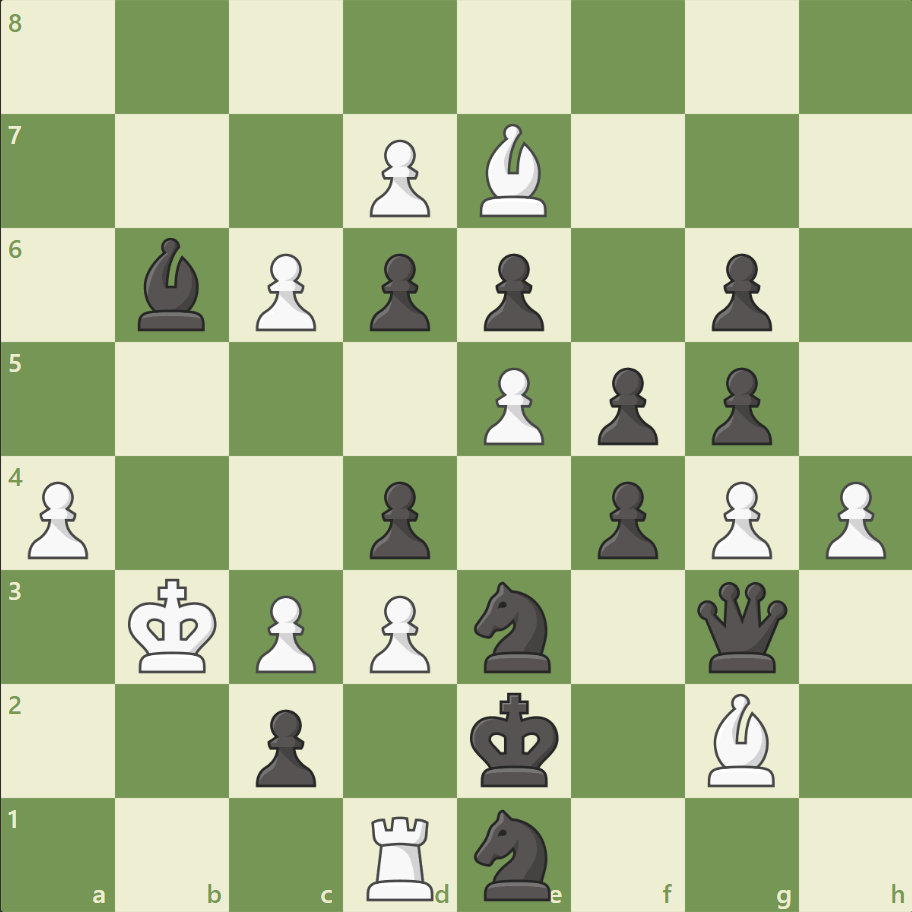B: (698, 687, 782, 790), (471, 120, 555, 222)
K: (124, 571, 224, 679)
P: (247, 246, 322, 337), (474, 359, 549, 450), (20, 473, 95, 564), (701, 473, 776, 564), (247, 586, 322, 677), (361, 132, 435, 223), (815, 473, 889, 564), (361, 586, 435, 677)
R: (360, 806, 442, 904)
b: (131, 233, 215, 336)
k: (465, 685, 565, 793)
n: (465, 575, 562, 677), (465, 802, 562, 904)
p: (474, 246, 549, 337), (701, 246, 776, 337), (701, 359, 776, 450), (247, 700, 322, 791), (361, 246, 435, 337), (588, 359, 662, 450), (361, 473, 435, 564), (588, 473, 662, 564)
q: (691, 576, 790, 676)
